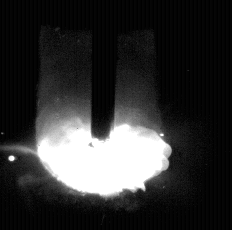arame: (92, 0, 116, 141)
poca: (35, 0, 167, 230)
